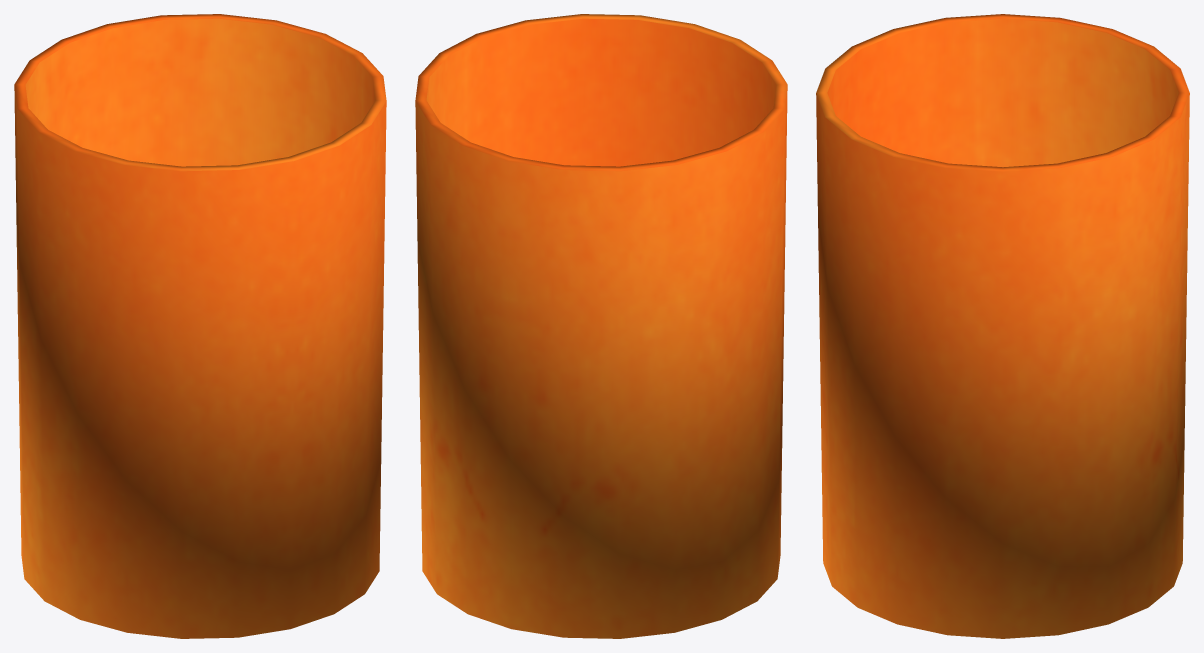
The model's file is trashbin.fbx.
3 views of the same model, side by side, from view 1: azimuth 30°, elevation 25°; view 2: azimuth 150°, elevation 25°; view 3: azimuth 270°, elevation 25° (orthographic).
Parts seen in each view (by area): view 1: trashbin; view 2: trashbin; view 3: trashbin.
Boxes of the visible parts, x1=… form: trashbin: x1=14, y1=14, x2=386, y2=638; trashbin: x1=415, y1=14, x2=787, y2=638; trashbin: x1=816, y1=14, x2=1189, y2=638.
Size of the model in its own units: 36.63 by 50.84 by 36.63.
